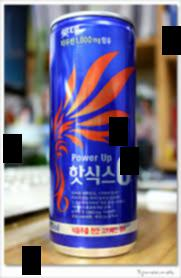hotsix_org: (49, 14, 142, 260)
